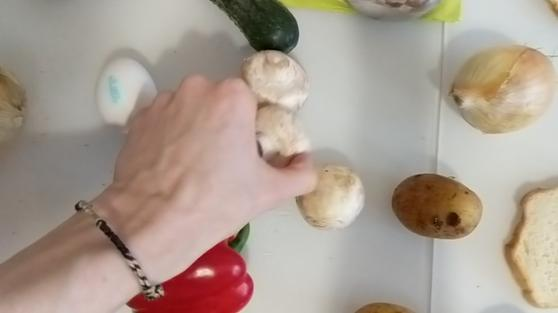champignon: (302, 162, 368, 235), (245, 49, 313, 113), (250, 106, 311, 172)
cucumber: (216, 1, 307, 48)
egg: (99, 53, 165, 133)
onion: (449, 41, 556, 137)
pepper: (129, 227, 255, 313)
potato: (389, 169, 482, 240)
white_bread: (504, 181, 558, 309)
